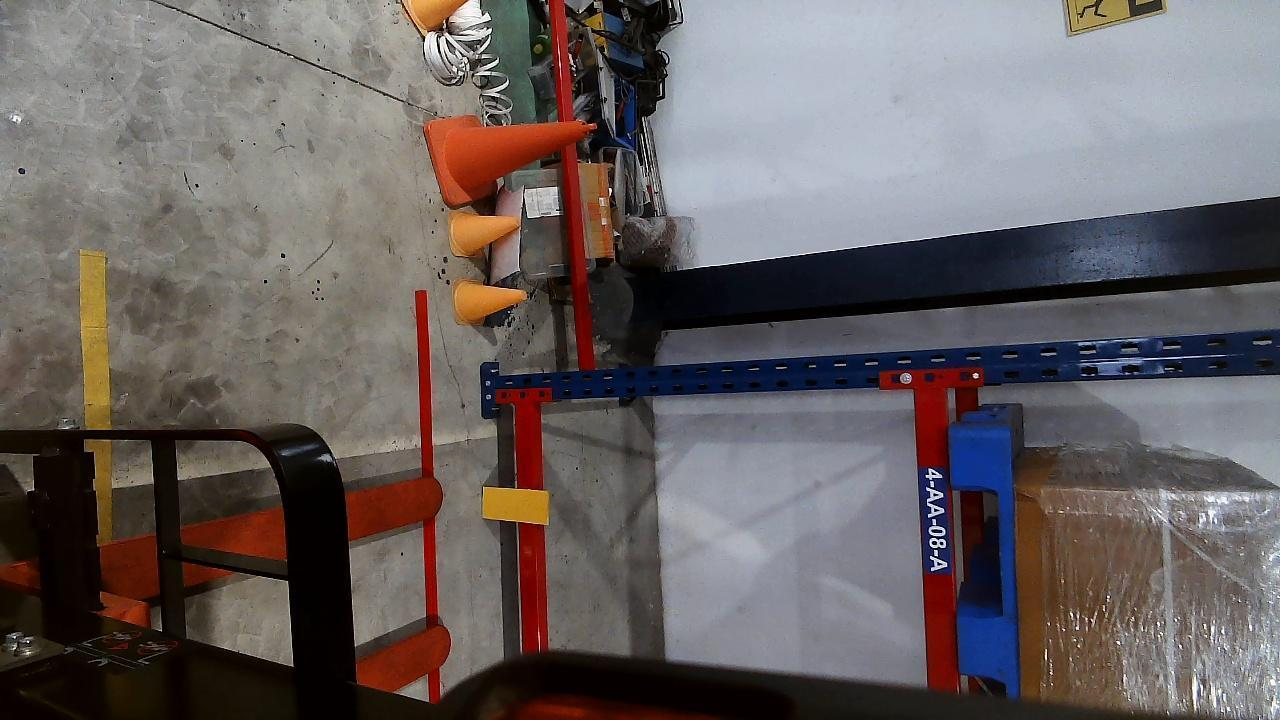red_line: (411, 290, 440, 672)
yellow_line: (79, 250, 111, 429)
